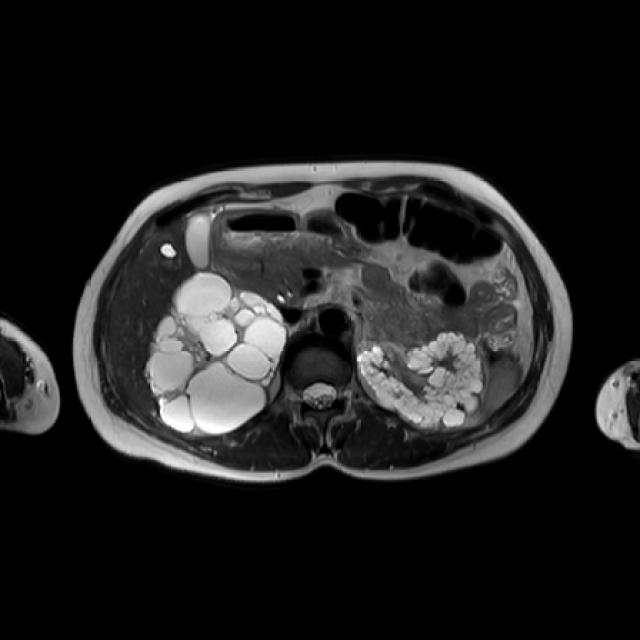sag: (144, 271, 287, 435)
sol: (361, 334, 481, 429)
